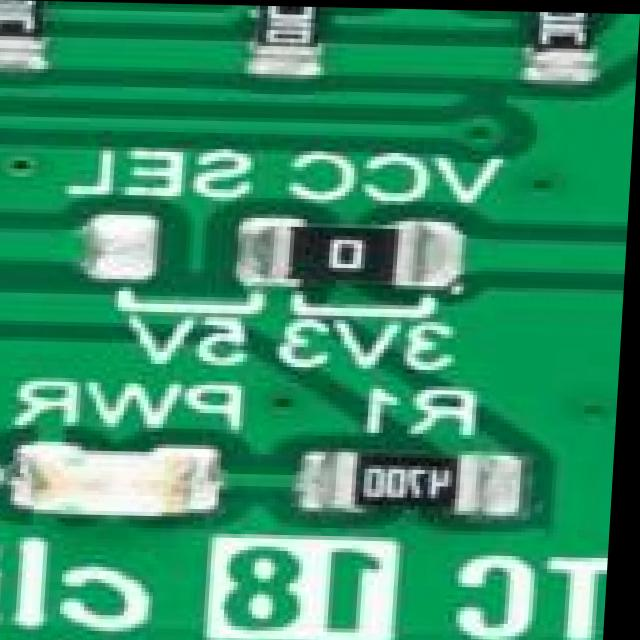LED: (0, 440, 232, 556)
resistor: (229, 212, 454, 288), (307, 458, 539, 500), (0, 0, 84, 69), (502, 9, 604, 63), (250, 4, 336, 50)
